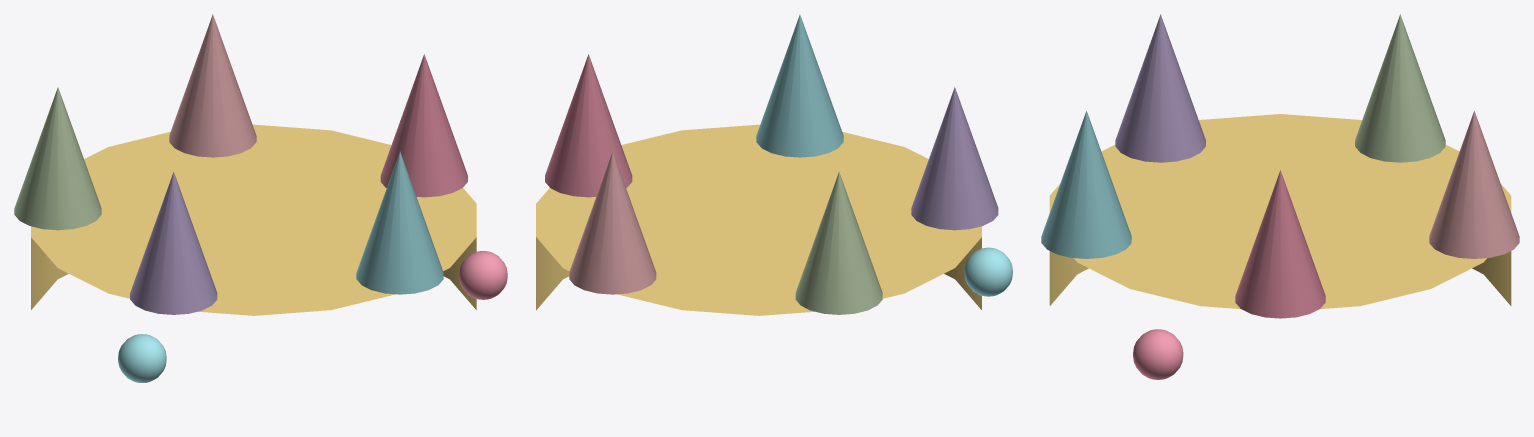
The model's file is confetti-crown.glb.
3 renders of one model, left to right at view 1: azimuth 30°, elevation 25°; view 2: azimuth 150°, elevation 25°; view 3: azimuth 270°, elevation 25°, orthographic. The views are drawn at different scales.
Visible parts, largest first — view 1: confetti-crown; view 2: confetti-crown; view 3: confetti-crown.
Boxes of the visible parts, left/top/right/bottom form: confetti-crown: left=14, top=14, right=507, bottom=382; confetti-crown: left=536, top=14, right=1012, bottom=315; confetti-crown: left=1041, top=14, right=1519, bottom=379.
Size of the model in its own units: 0.475 by 0.26 by 0.4691.
